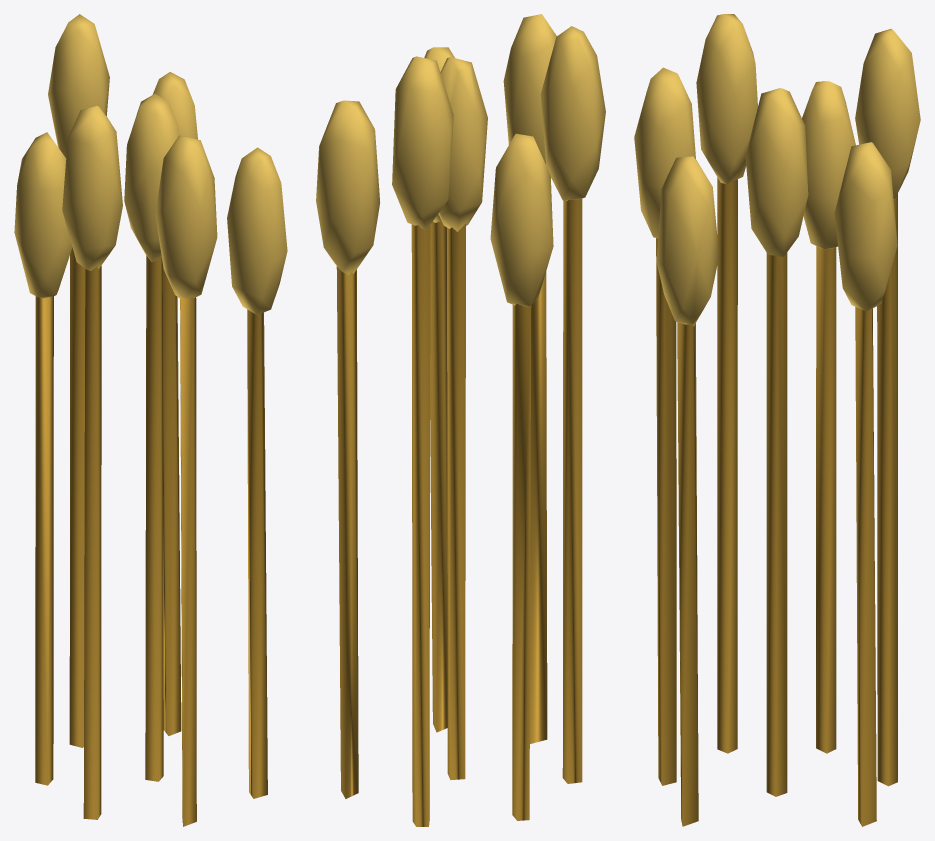
Rendered from wheat_mobile.glb.
3 renders of one model, left to right at view 1: azimuth 30°, elevation 25°; view 2: azimuth 150°, elevation 25°; view 3: azimuth 270°, elevation 25°, orthographic. The views are drawn at different scales.
Visible parts, largest first — view 1: Wheat; view 2: Wheat; view 3: Wheat.
Boxes of the visible parts, x1,y1,x2,y2 form: Wheat: [14, 14, 287, 826]; Wheat: [316, 14, 605, 826]; Wheat: [634, 14, 920, 826].
Bounding box in the file's own units: 0.3759 × 1.31 × 0.4526.
